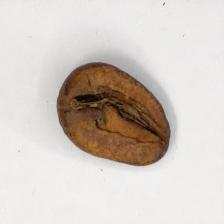NG: (66, 87, 162, 147)
